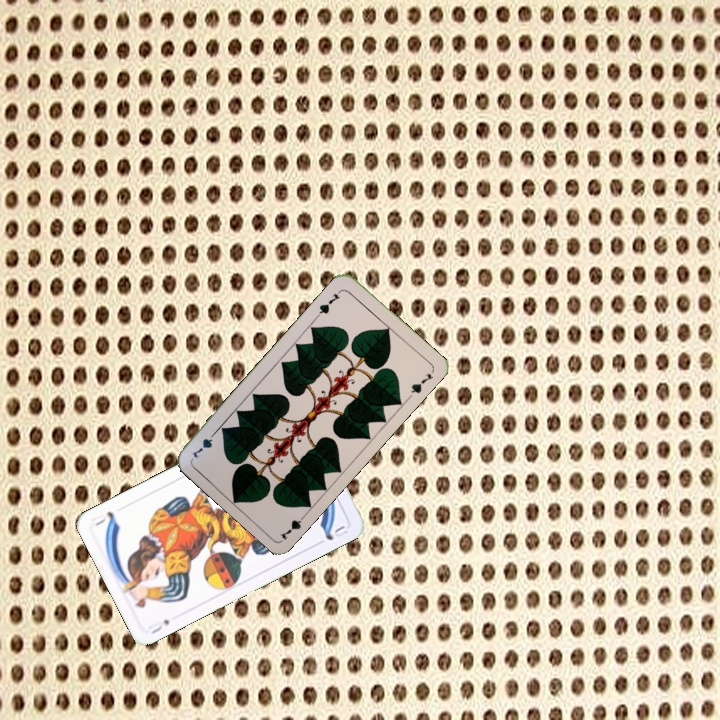G7: (276, 508, 310, 542), (313, 286, 344, 319)
SU: (145, 615, 172, 637)
